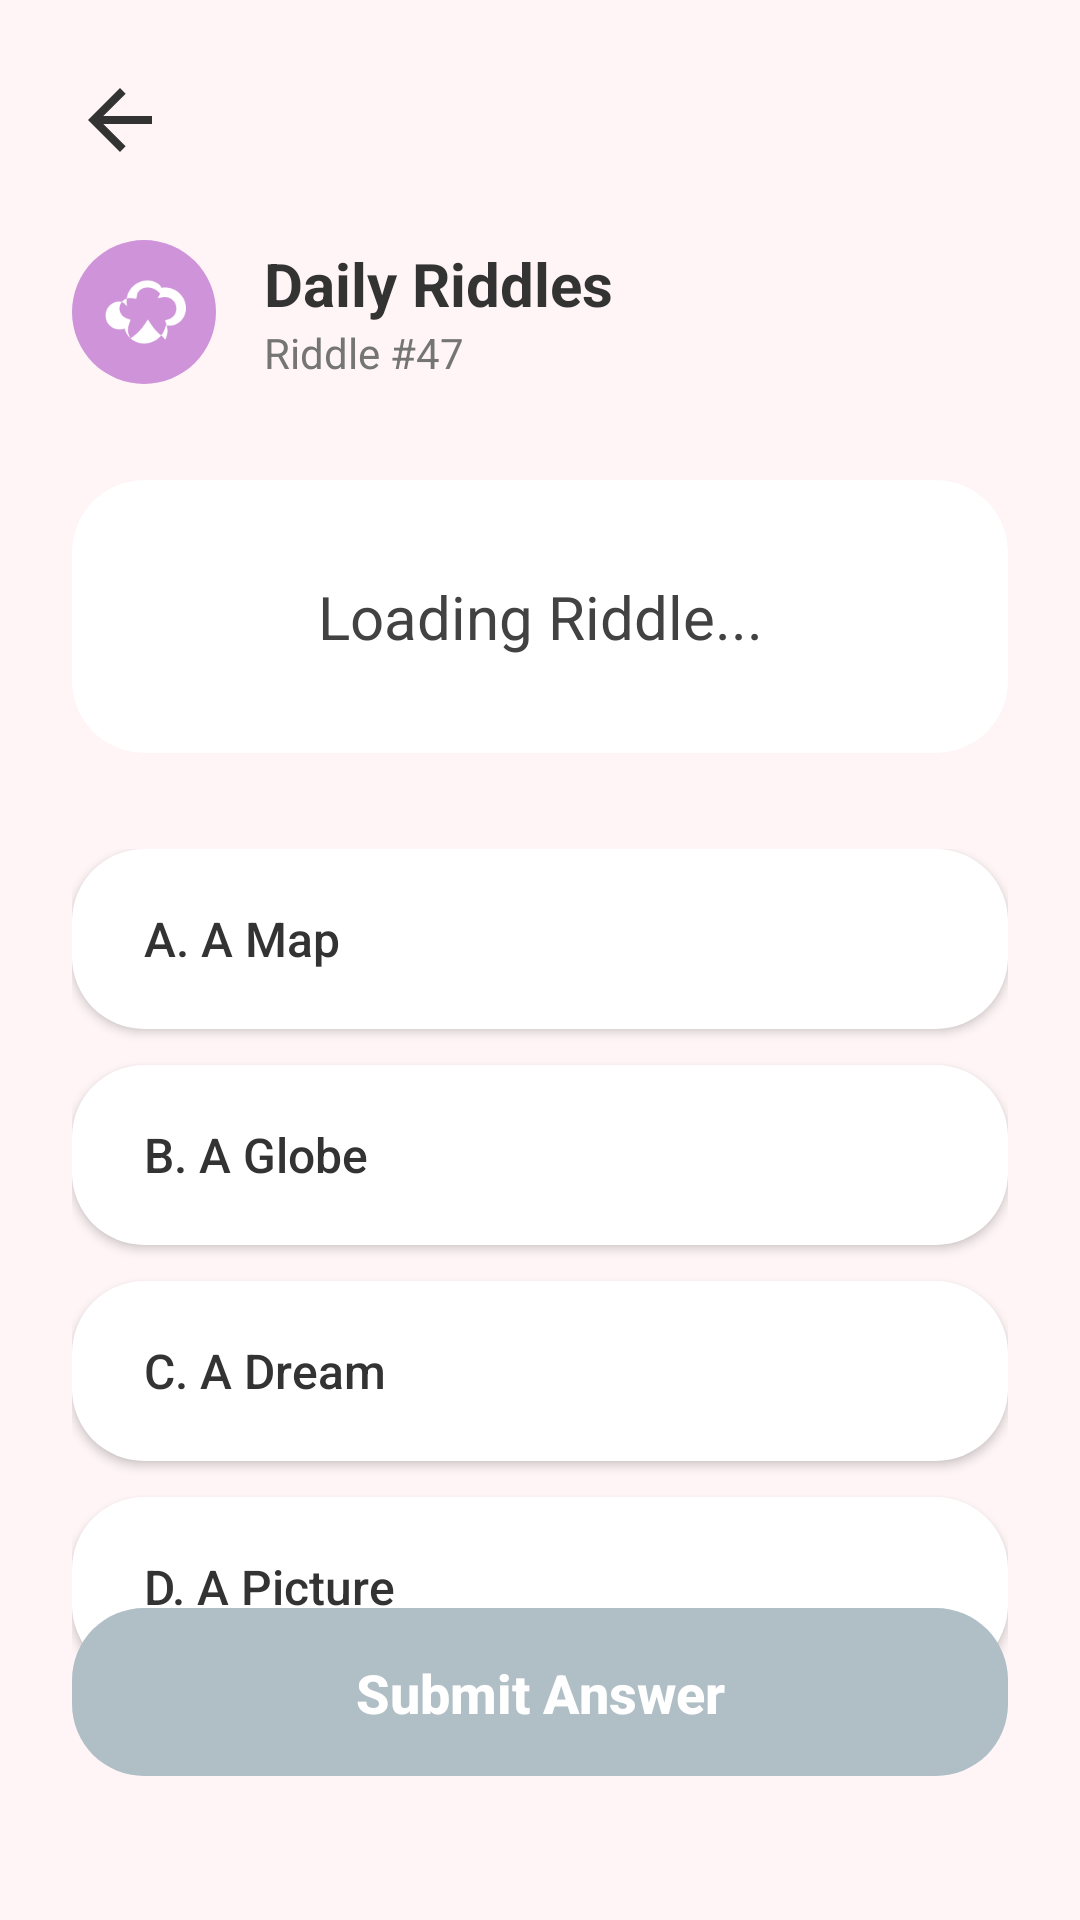

Where to tap for icons on this 1080×1920 app screen, as (x=x, y=y):
arrow back: (x=120, y=120)
